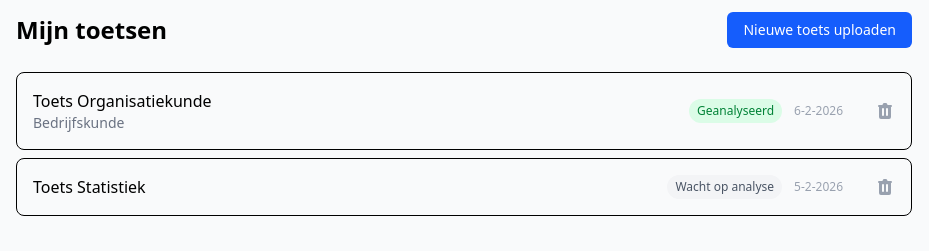
Home — exam deletion › T12.2: clicking delete button shows confirmation dialog
Expected: the text "Toets Organisatiekunde" is shown, [33,89,212,113]
Click the button titled "Toets verwijderen": (885, 111) [859,85,911,137]
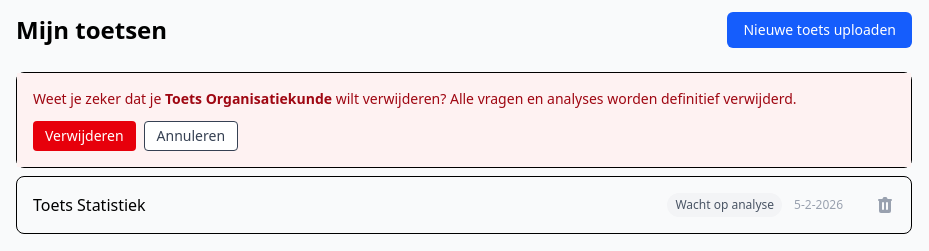
Expected: the text "Toets Organisatiekunde" is shown, [165,89,332,108]
Expected: the text "Weet je zeker dat je" is shown, [33,89,165,108]
Expected: the button "Annuleren" is shown, [144,121,238,151]
